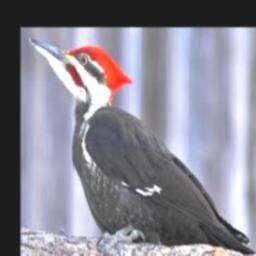Woodpecker: (28, 37, 256, 256)
